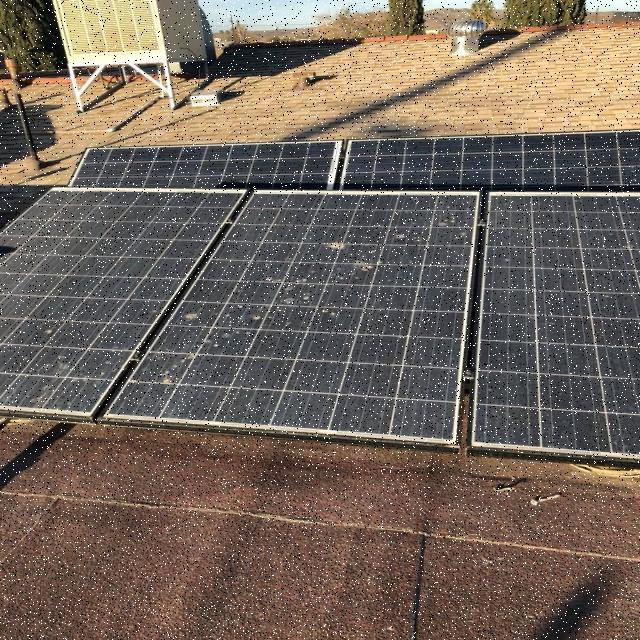bird drop: (15, 200, 516, 407)
